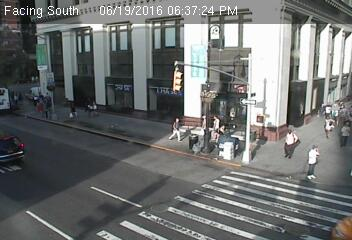neg: (84, 174, 115, 215), (157, 183, 184, 219), (128, 49, 153, 83), (284, 32, 309, 66), (197, 40, 222, 73), (222, 27, 246, 58), (252, 32, 273, 59), (68, 36, 87, 61), (27, 36, 45, 60), (225, 78, 241, 99), (10, 139, 23, 157)
pos: (299, 142, 327, 180), (277, 124, 304, 160), (164, 117, 186, 146), (203, 111, 224, 139), (320, 113, 340, 139), (335, 118, 351, 148), (62, 96, 80, 121), (41, 97, 59, 122), (85, 99, 101, 121), (10, 92, 24, 111), (27, 89, 39, 105)
